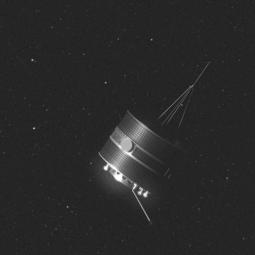double_start: (90, 81, 212, 206)
